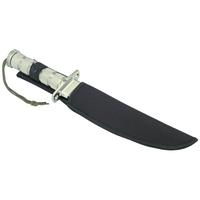knife: (5, 45, 194, 155)
